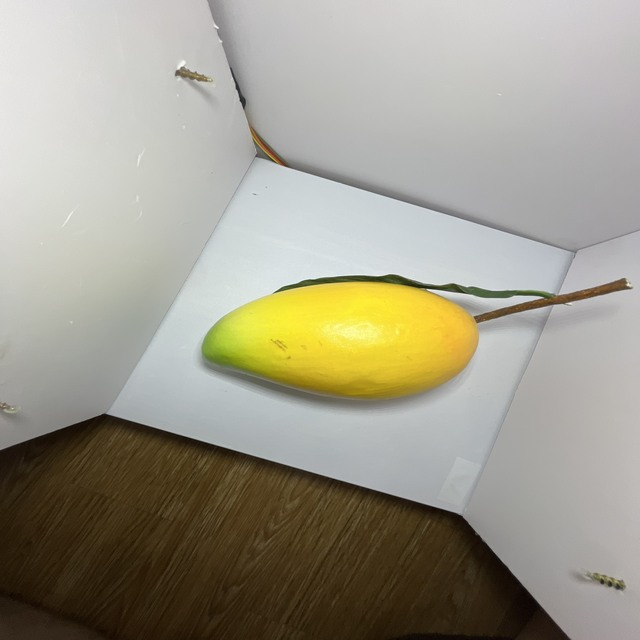Xoai: (195, 273, 486, 404)
